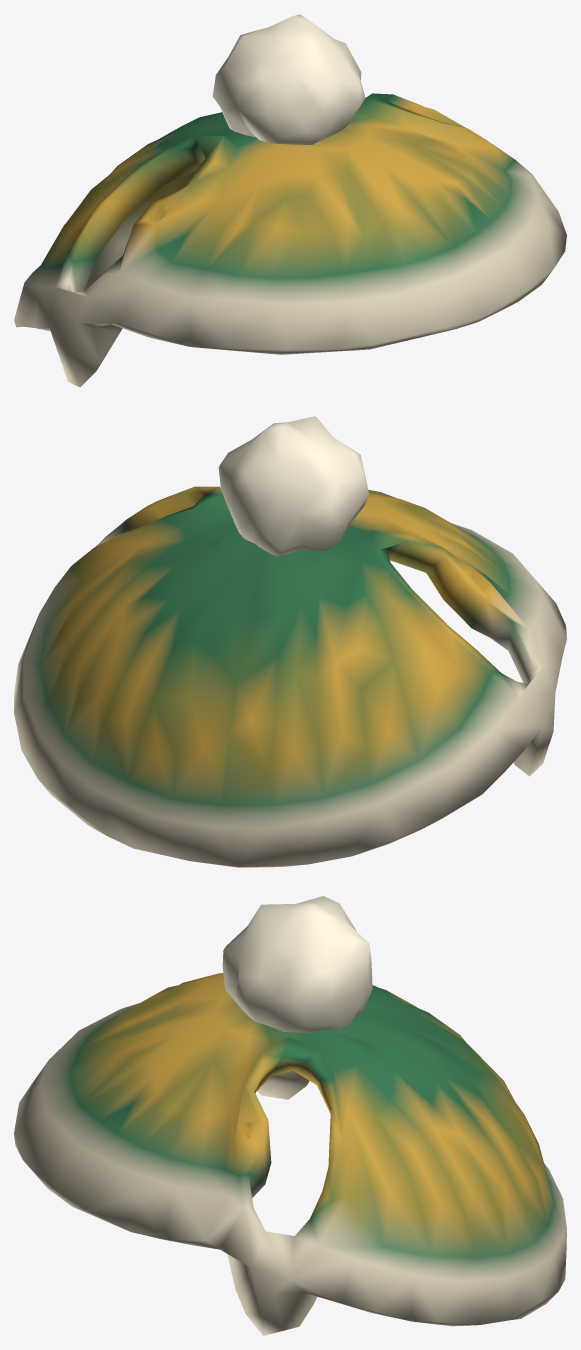
The model's file is munlen.glb.
The picture shows the model from 3 angles, top to bottom: view 1: azimuth 30°, elevation 25°; view 2: azimuth 150°, elevation 25°; view 3: azimuth 270°, elevation 25°; orthographic projection. The views are drawn at different scales.
Parts seen in each view (by area): view 1: Mu_Len, Qua_Bong; view 2: Mu_Len, Qua_Bong; view 3: Mu_Len, Qua_Bong.
Part boxes in pixels (<box>): Mu_Len: <box>14,93,566,387</box>; Qua_Bong: <box>212,14,365,144</box>; Mu_Len: <box>14,486,566,867</box>; Qua_Bong: <box>218,416,368,556</box>; Mu_Len: <box>14,973,566,1335</box>; Qua_Bong: <box>222,896,372,1033</box>.
Bounding box in the file's own units: 0.2756 × 0.1821 × 0.2528.
